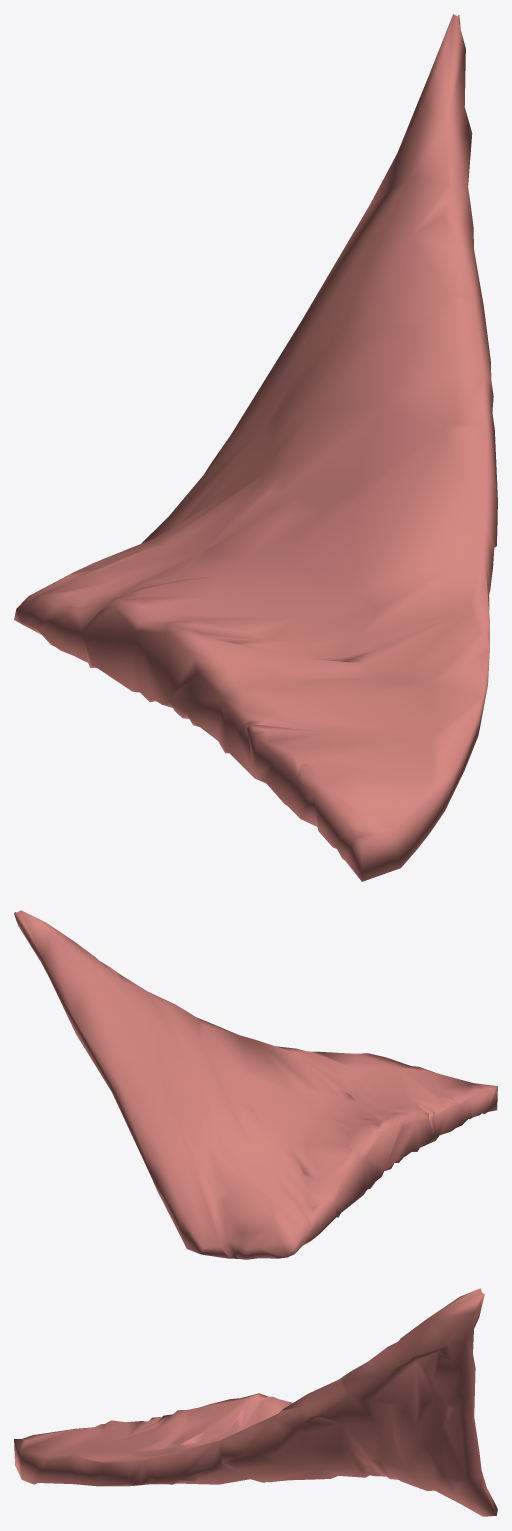
3 renders of one model, top to bottom at view 1: azimuth 30°, elevation 25°; view 2: azimuth 150°, elevation 25°; view 3: azimuth 270°, elevation 25°, orthographic. The views are drawn at different scales.
Visible parts, largest first — view 1: ZA_70a0a8d506111c7b; view 2: ZA_70a0a8d506111c7b; view 3: ZA_70a0a8d506111c7b.
Part boxes in pixels (left/top/right/bottom): ZA_70a0a8d506111c7b: left=14, top=14, right=497, bottom=881; ZA_70a0a8d506111c7b: left=14, top=910, right=497, bottom=1259; ZA_70a0a8d506111c7b: left=14, top=1288, right=497, bottom=1516.
Bounding box in the file's own units: 0.0269 × 0.028 × 0.0378.
